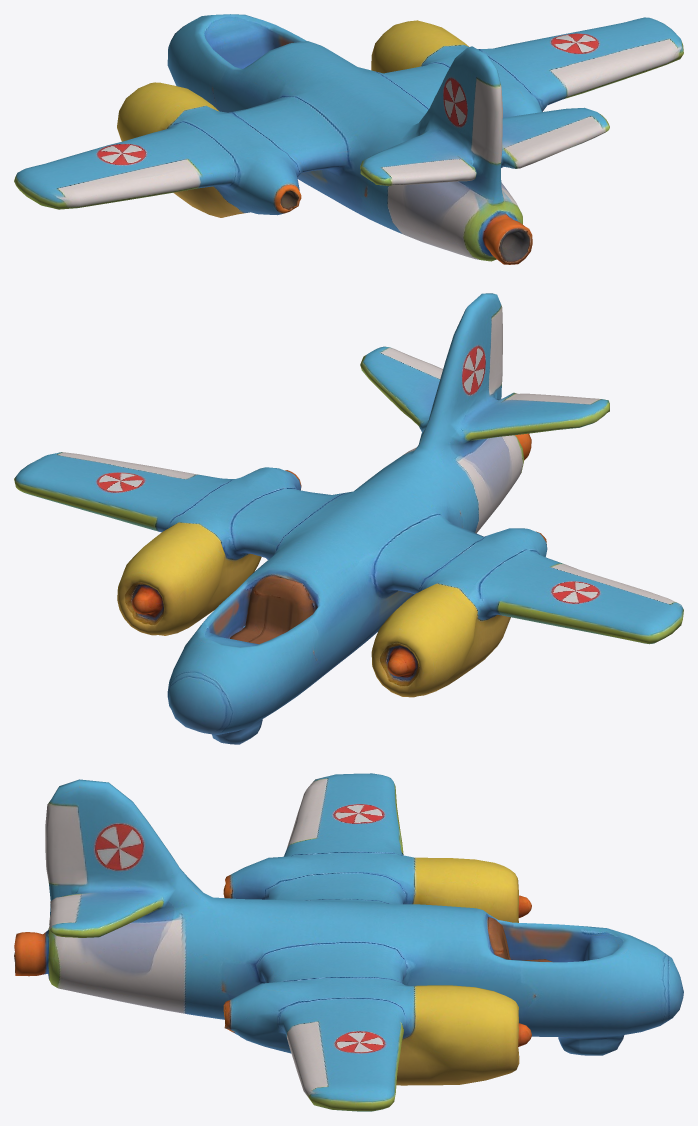
File: tripo_convert_d90881d0-d680-4fc5-b162-e762e156422a.fbx
3 renders of one model, top to bottom at view 1: azimuth 30°, elevation 25°; view 2: azimuth 150°, elevation 25°; view 3: azimuth 270°, elevation 25°, orthographic. The views are drawn at different scales.
Parts seen in each view (by area): view 1: tripo_node_d90881d0; view 2: tripo_node_d90881d0; view 3: tripo_node_d90881d0.
Part boxes in pixels (x1,y1,x2,y2): tripo_node_d90881d0: (14,14,683,264); tripo_node_d90881d0: (14,293,683,744); tripo_node_d90881d0: (14,773,683,1111).
Size of the model in its own units: 0.9762 by 0.3784 by 0.8456.
1 material, 1 textured.
